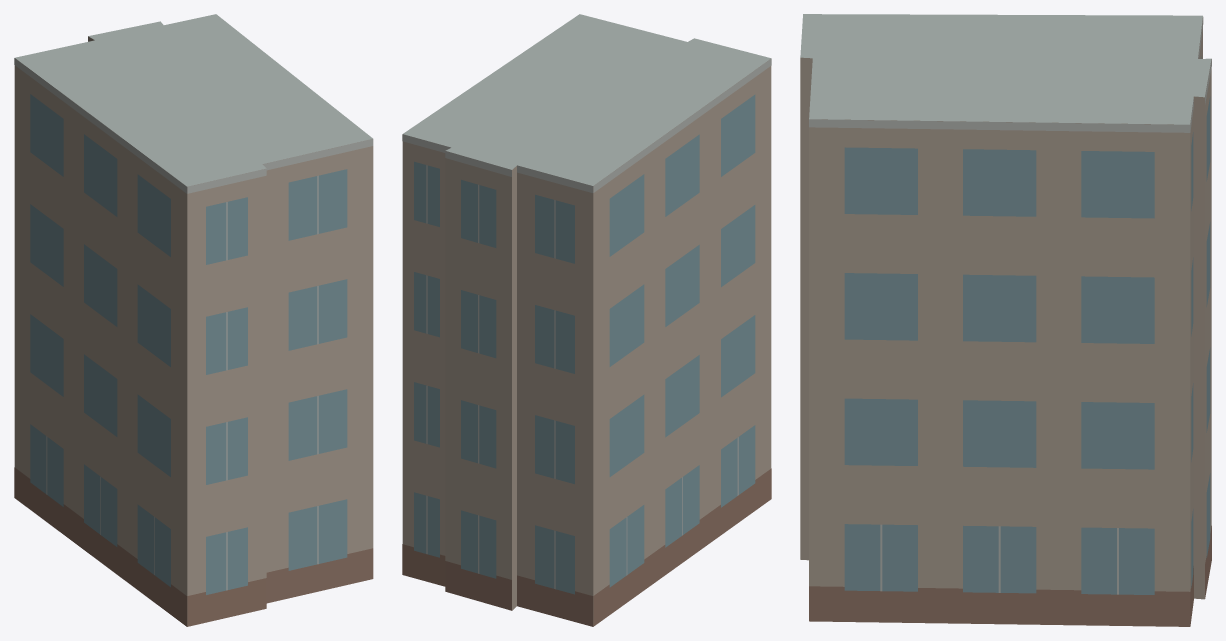
Rendered from survey-upis-32463224.glb.
3 renders of one model, left to right at view 1: azimuth 30°, elevation 25°; view 2: azimuth 150°, elevation 25°; view 3: azimuth 270°, elevation 25°, orthographic. The views are drawn at different scales.
Parts seen in each view (by area): view 1: survey-upis-32463224.tmp; view 2: survey-upis-32463224.tmp; view 3: survey-upis-32463224.tmp.
Boxes of the visible parts, box(x1,y1,x2,y2) form: survey-upis-32463224.tmp: box(14, 14, 373, 626); survey-upis-32463224.tmp: box(402, 14, 771, 626); survey-upis-32463224.tmp: box(800, 14, 1211, 626).
Bounding box in the file's own units: 7.05 × 14.9 × 11.07.
